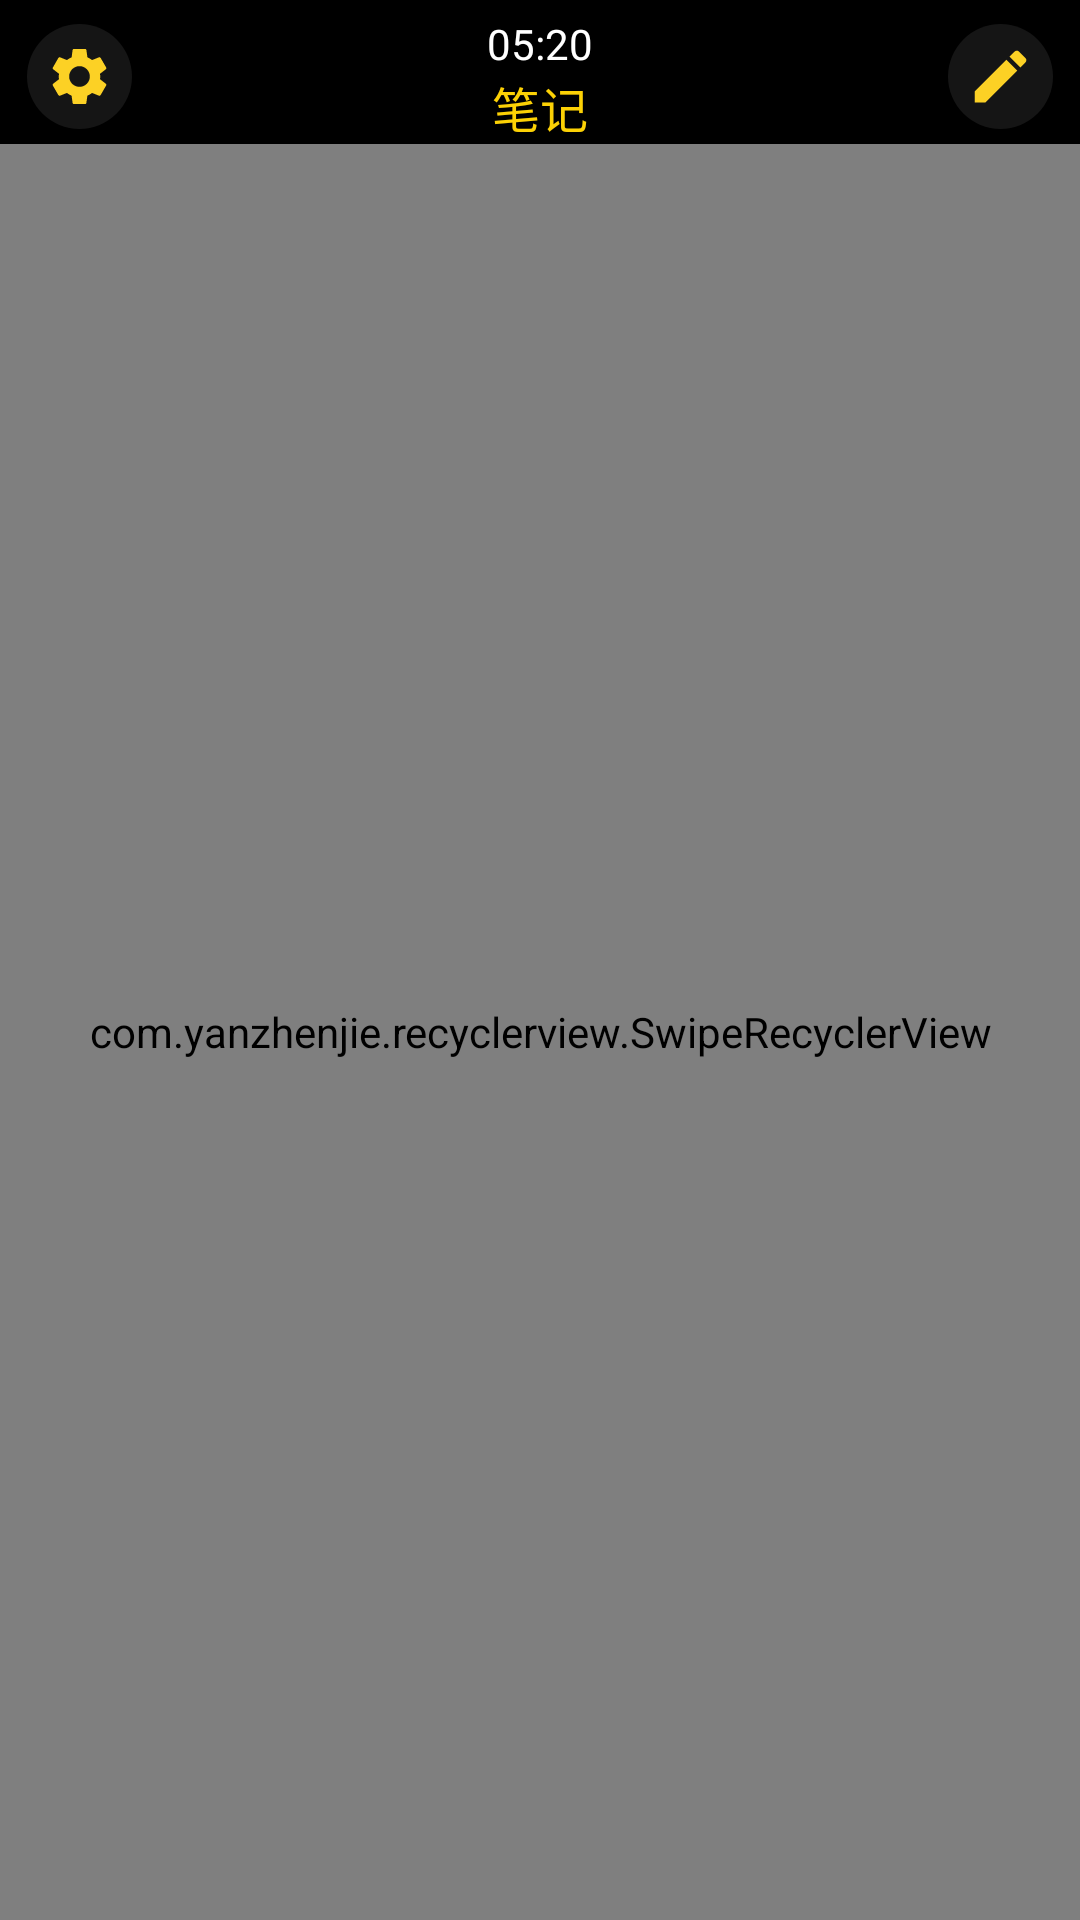

Point at icon controls on the screen. Image size 1080*1920, points as [x,y].
edit: [1000,76]
settings: [79,76]
